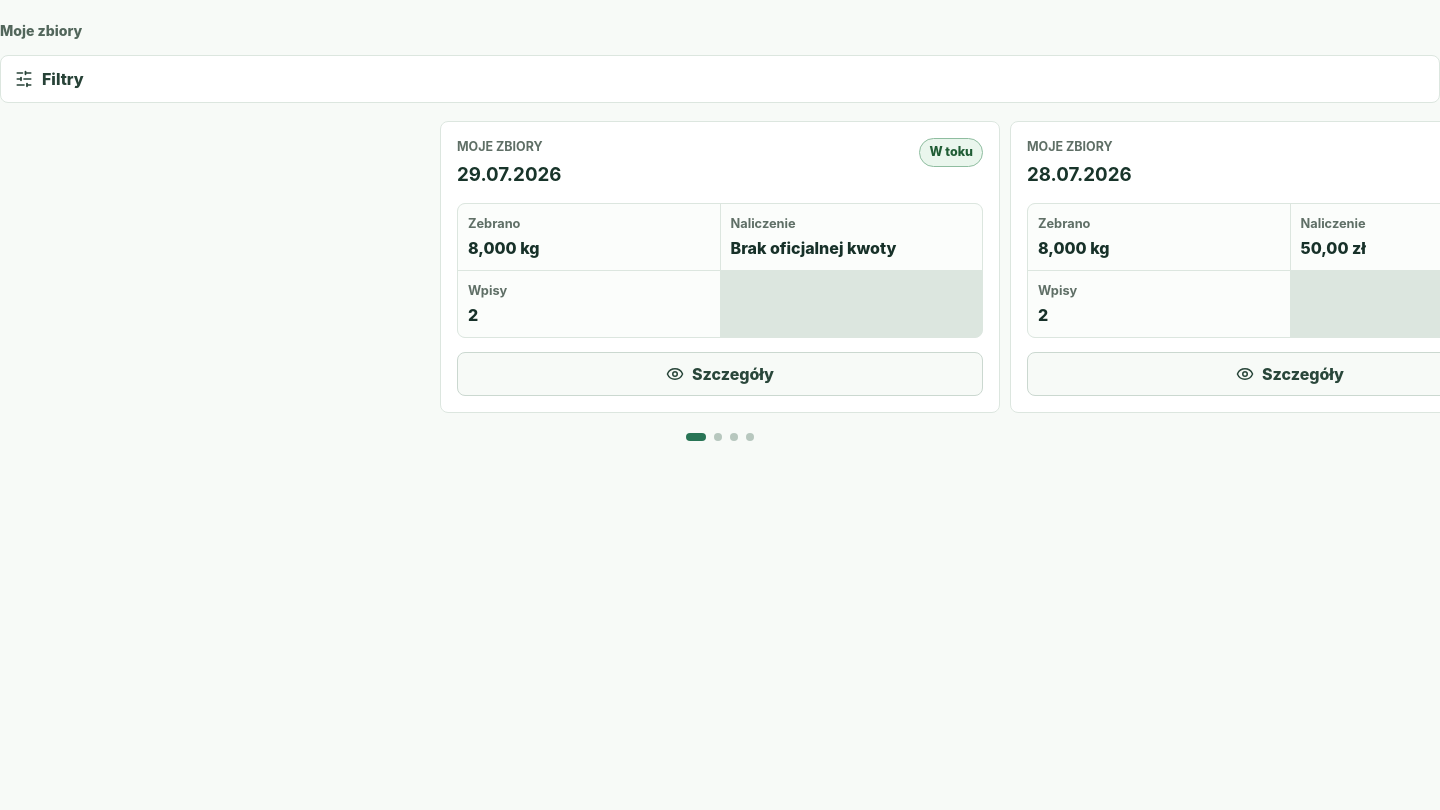
Test: PickerHarvestListPanel › shows all statuses, meaningful sync state and opens session details full-screen
Click the button with aria-label "Otwórz sesję 29.07.2026" at (720, 374), box [457,352,983,396]
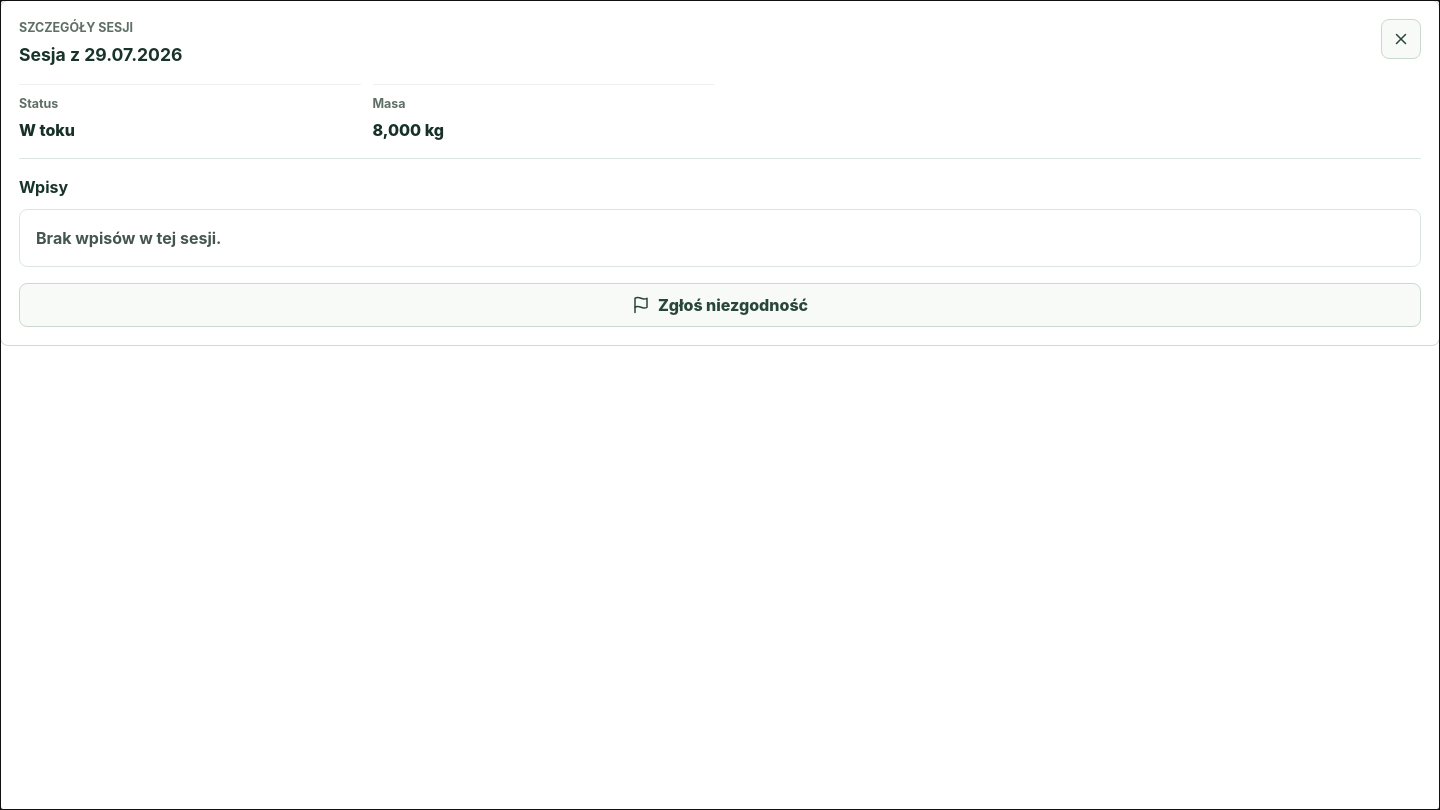
Result: the heading "Sesja z 29.07.2026" is shown at [19,42,182,68]
